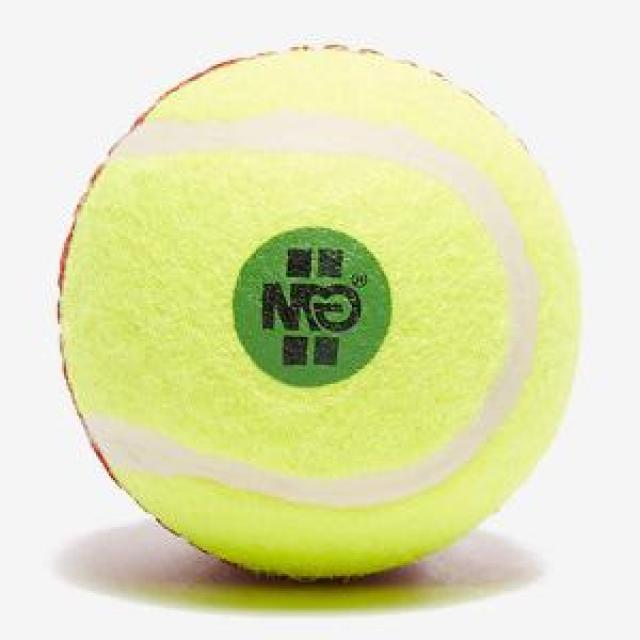ball: (56, 47, 580, 584)
